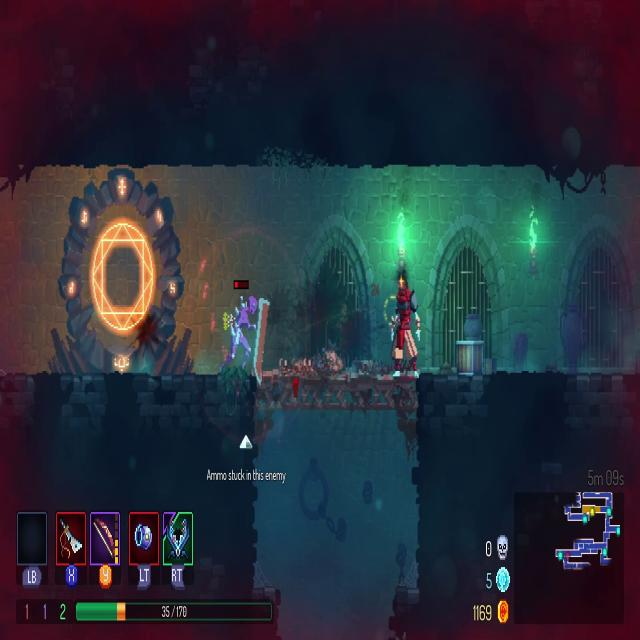agents: (390, 270, 424, 382)
enemy_purple_shield: (226, 295, 272, 384)
wood_floor: (256, 366, 419, 409)
